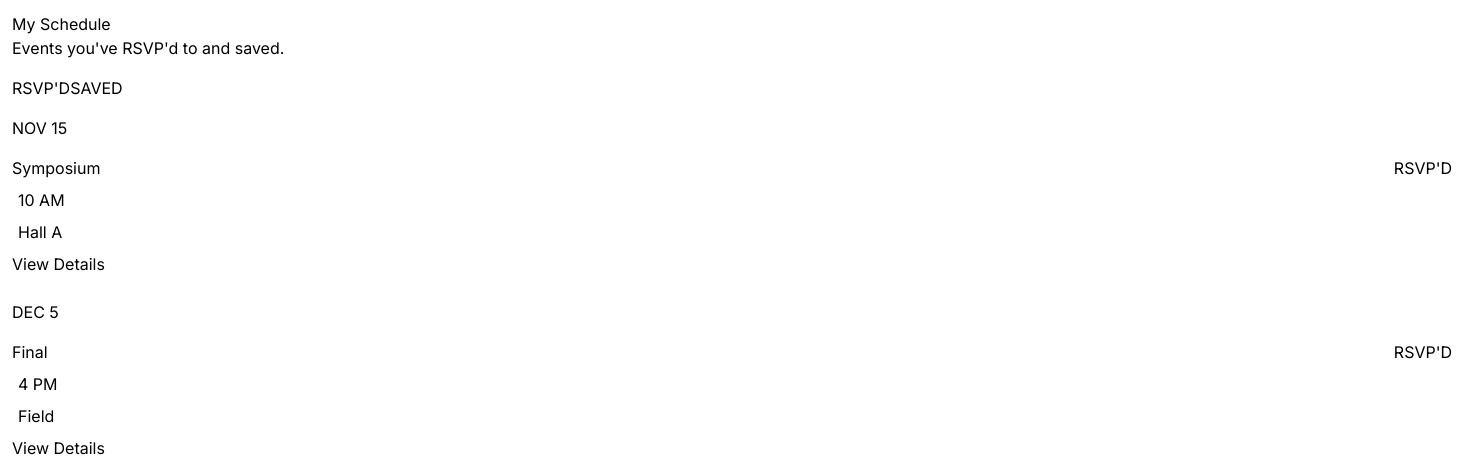
Test case: SchedulePageComponent › switches to the saved tab, re-fetches, and shows the saved empty state with no stale cards
The width and height of the screenshot is (1464, 472).
Click the tab "SAVED" at (96,88), box [70,76,123,100]
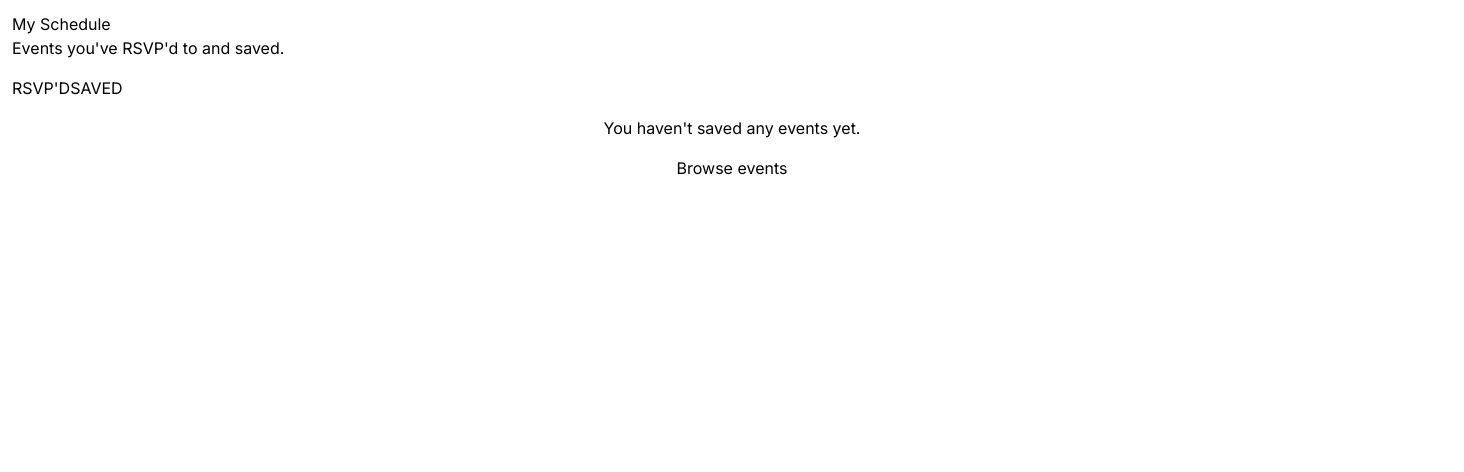
Expected: the element showing "You haven't saved any events yet. Browse events" is shown, [604,118,860,180]
